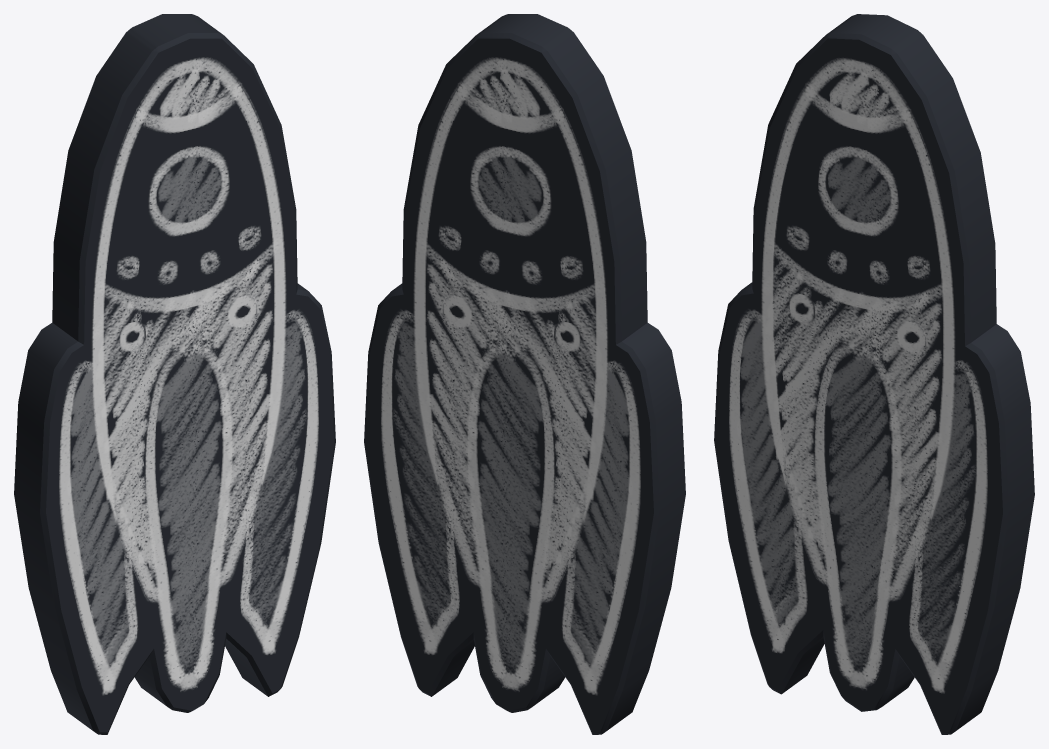
Rendered from Rocket.fbx.
The picture shows the model from 3 angles, left to right: view 1: azimuth 30°, elevation 25°; view 2: azimuth 150°, elevation 25°; view 3: azimuth 330°, elevation 25°; orthographic projection.
Parts seen in each view (by area): view 1: m_Rocket; view 2: m_Rocket; view 3: m_Rocket.
Part boxes in pixels (box(x1,y1,x2,y2)): m_Rocket: box(14, 14, 335, 734); m_Rocket: box(364, 14, 685, 734); m_Rocket: box(714, 14, 1034, 734).
Bounding box in the file's own units: 0.564 × 1.24 × 0.1.
